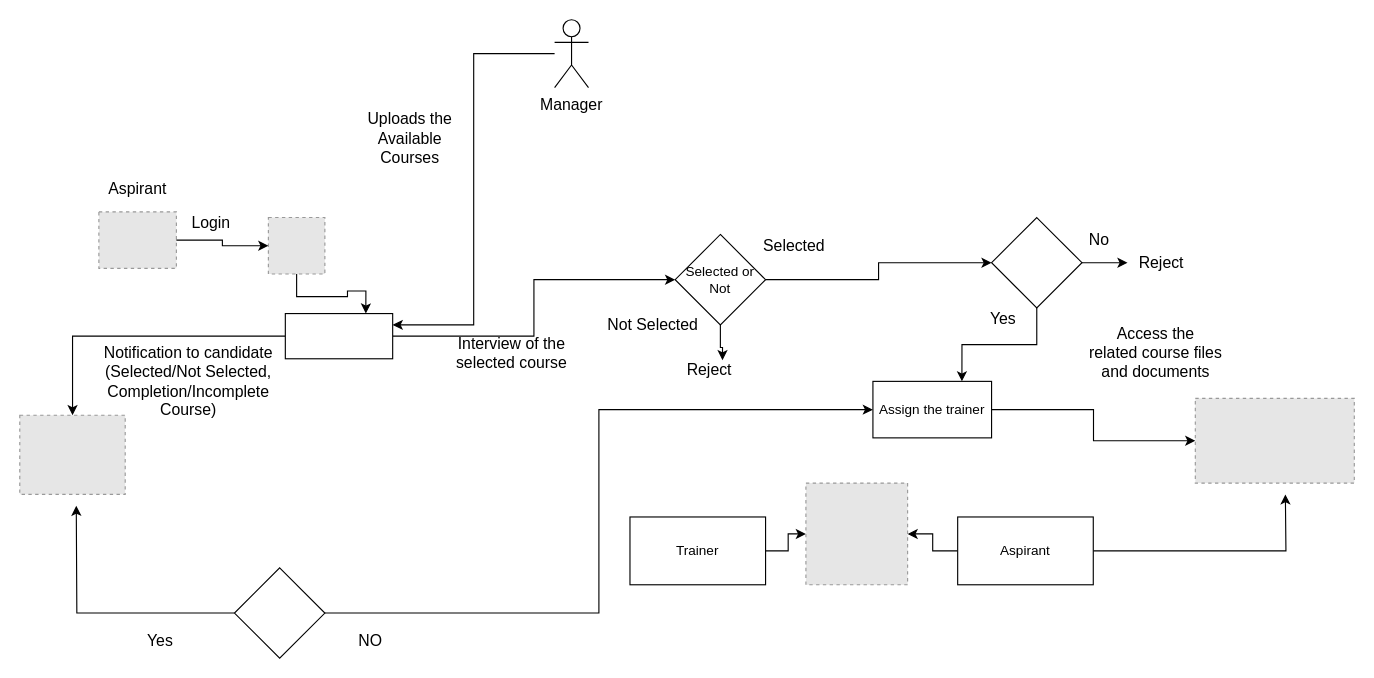
Image size: 1374x678. Some labels were removed from this diagram. Grey dashed boxes stand in for pictures. The shapes that lost their labels are listed below. From the top down, each one's box as (x1, y1, x2, y2) in pixels, then its label:
(990, 216, 1082, 308): Offer Acceptance
(284, 312, 393, 359): course
(233, 567, 325, 658): Course Completion Status
